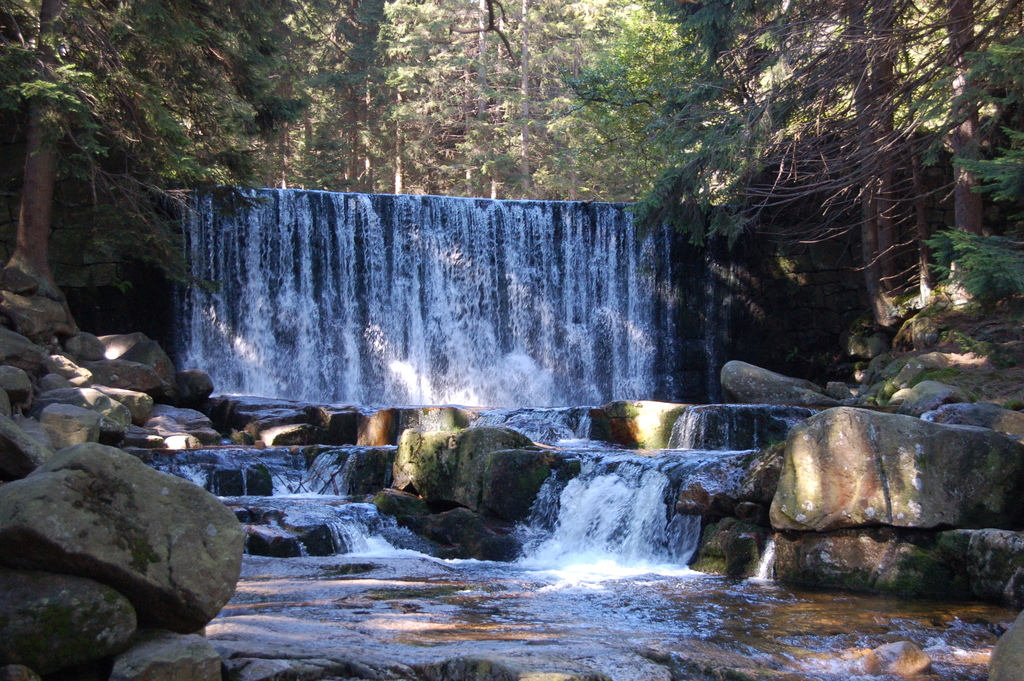Tree: (0, 0, 1024, 328)
